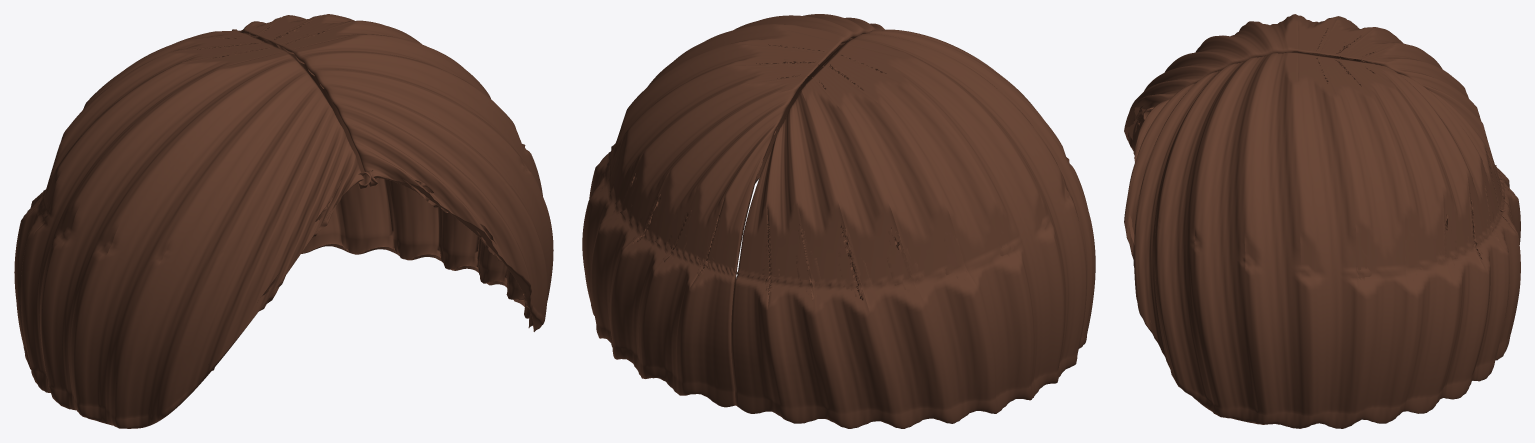
File: Masculine-middle-part-bucket252-hair.glb
The picture shows the model from 3 angles, left to right: view 1: azimuth 30°, elevation 25°; view 2: azimuth 150°, elevation 25°; view 3: azimuth 270°, elevation 25°; orthographic projection. The views are drawn at different scales.
Parts seen in each view (by area): view 1: 226 hair / Hair252 / flowing sculpt middle.001; view 2: 226 hair / Hair252 / flowing sculpt middle.001; view 3: 226 hair / Hair252 / flowing sculpt middle.001.
Part boxes in pixels (x1,y1,x2,y2): 226 hair / Hair252 / flowing sculpt middle.001: [14, 14, 553, 428]; 226 hair / Hair252 / flowing sculpt middle.001: [582, 14, 1095, 428]; 226 hair / Hair252 / flowing sculpt middle.001: [1124, 14, 1520, 428].
Size of the model in its own units: 1.06 by 0.6518 by 0.8322.
